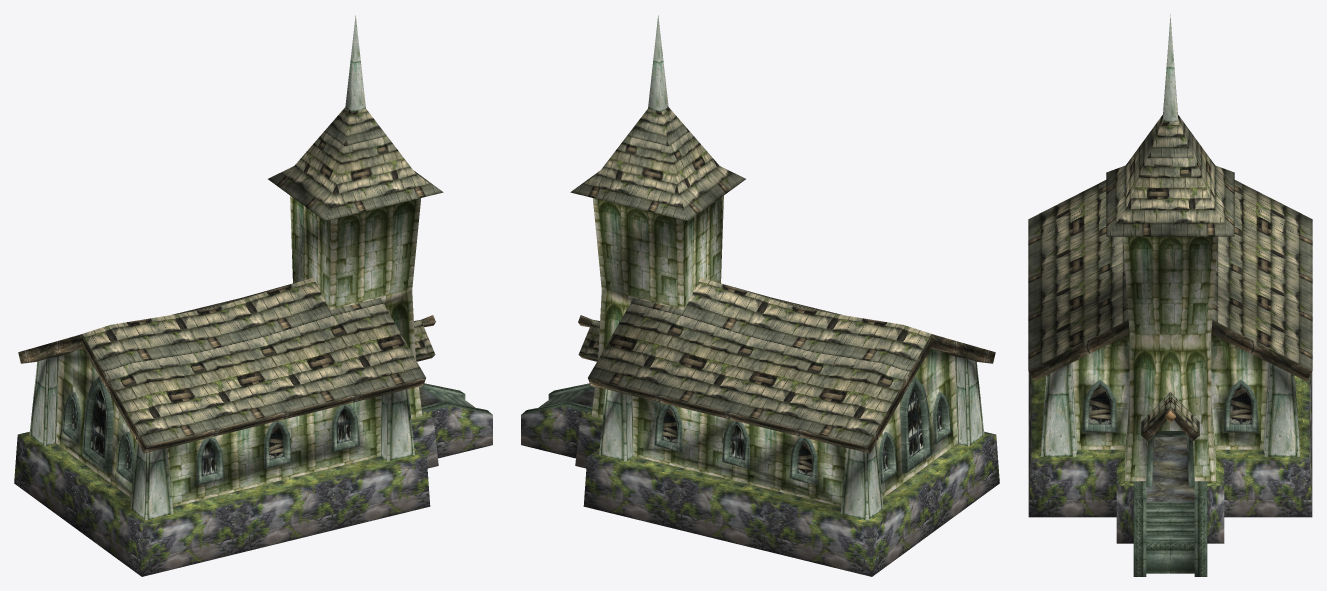
File: duskwoodchapel.gltf
3 renders of one model, left to right at view 1: azimuth 30°, elevation 25°; view 2: azimuth 150°, elevation 25°; view 3: azimuth 270°, elevation 25°, orthographic. The views are drawn at different scales.
Visible parts, largest first — view 1: duskwoodchapel_ext012, duskwoodchapel_ext014, duskwoodchapel_ext017, duskwoodchapel_ext010, duskwoodchapel_ext013, duskwoodchapel_ext015, duskwoodchapel_ext018; view 2: duskwoodchapel_ext012, duskwoodchapel_ext014, duskwoodchapel_ext017, duskwoodchapel_ext010, duskwoodchapel_ext013, duskwoodchapel_ext015, duskwoodchapel_ext018; view 3: duskwoodchapel_ext012, duskwoodchapel_ext017, duskwoodchapel_ext014, duskwoodchapel_ext013, duskwoodchapel_ext010, duskwoodchapel_ext015, duskwoodchapel_int011, duskwoodchapel_ext018, duskwoodchapel_ext011.
Boxes of the visible parts, <box> form: duskwoodchapel_ext012: <box>82,107,443,445</box>; duskwoodchapel_ext014: <box>14,406,492,576</box>; duskwoodchapel_ext017: <box>56,195,422,506</box>; duskwoodchapel_ext010: <box>29,15,414,520</box>; duskwoodchapel_ext013: <box>62,376,492,485</box>; duskwoodchapel_ext015: <box>18,315,435,453</box>; duskwoodchapel_ext018: <box>71,390,351,476</box>; duskwoodchapel_ext012: <box>570,107,931,445</box>; duskwoodchapel_ext014: <box>521,406,999,576</box>; duskwoodchapel_ext017: <box>591,195,957,506</box>; duskwoodchapel_ext010: <box>599,15,984,520</box>; duskwoodchapel_ext013: <box>521,376,951,485</box>; duskwoodchapel_ext015: <box>578,315,995,453</box>; duskwoodchapel_ext018: <box>662,390,942,476</box>; duskwoodchapel_ext012: <box>1028,115,1312,434</box>; duskwoodchapel_ext017: <box>1072,236,1268,481</box>; duskwoodchapel_ext014: <box>1028,372,1312,543</box>; duskwoodchapel_ext013: <box>1082,380,1258,576</box>; duskwoodchapel_ext010: <box>1041,14,1299,456</box>; duskwoodchapel_ext015: <box>1028,320,1312,441</box>; duskwoodchapel_int011: <box>1152,440,1188,482</box>; duskwoodchapel_ext018: <box>1088,387,1252,424</box>; duskwoodchapel_ext011: <box>1146,483,1194,502</box>.
Size of the model in its own units: 42.3 by 45.52 by 23.59.
